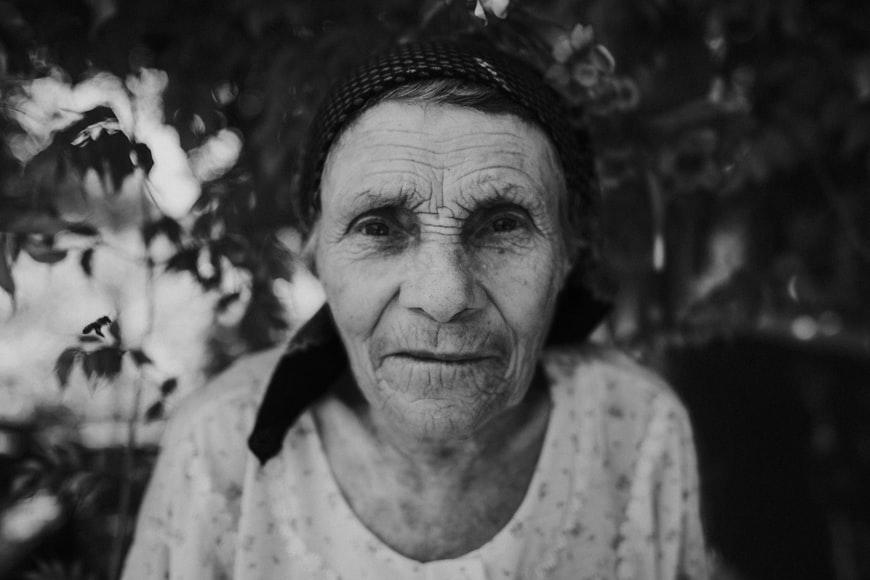Wrinkles: (453, 166, 532, 184), (361, 145, 499, 154), (372, 159, 467, 169), (430, 133, 524, 142), (369, 171, 428, 181), (386, 130, 432, 134)
